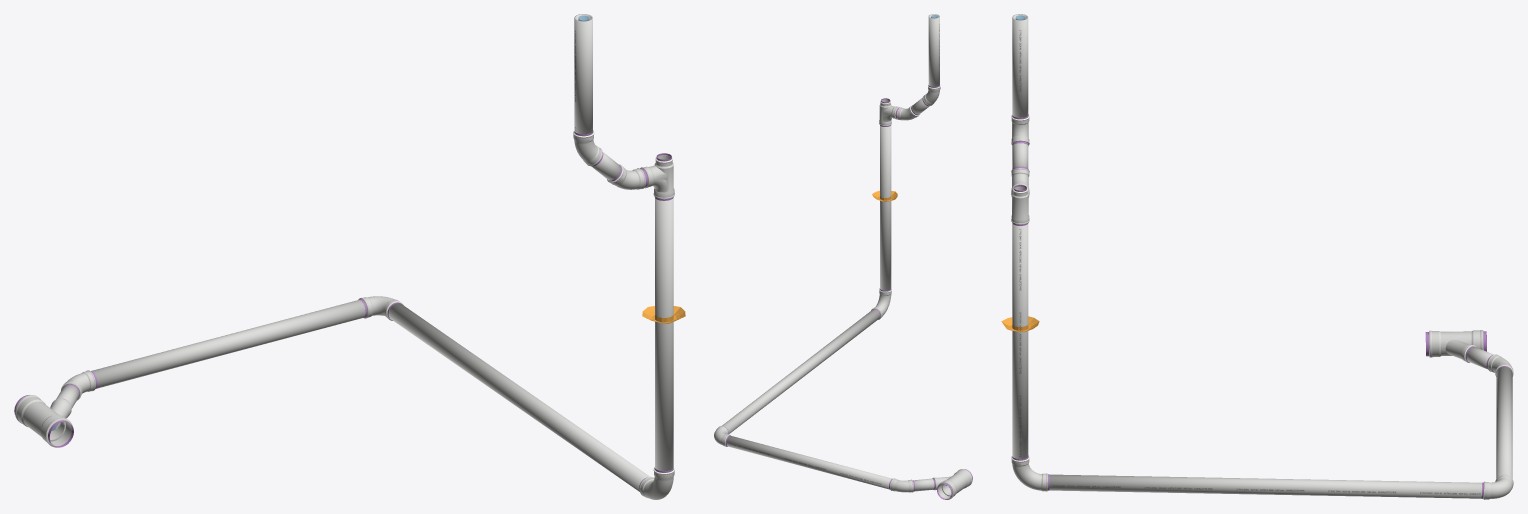
Rendered from pipes_dwv__fault-standpipe_no_trap.glb.
3 renders of one model, left to right at view 1: azimuth 30°, elevation 25°; view 2: azimuth 150°, elevation 25°; view 3: azimuth 270°, elevation 25°, orthographic. The views are drawn at different scales.
Parts seen in each view (by area): view 1: pipe_dwv_laundry_notrap, fit_wye_pipe_dwv_laundry_notrap, fit_tee_pipe_dwv_laundry_notrap; view 2: pipe_dwv_laundry_notrap, fit_wye_pipe_dwv_laundry_notrap, fit_tee_pipe_dwv_laundry_notrap; view 3: pipe_dwv_laundry_notrap, fit_wye_pipe_dwv_laundry_notrap, fit_tee_pipe_dwv_laundry_notrap.
Part boxes in pixels (left/top/right/bottom): pipe_dwv_laundry_notrap: left=56, top=14, right=674, bottom=499; fit_wye_pipe_dwv_laundry_notrap: left=14, top=395, right=73, bottom=447; fit_tee_pipe_dwv_laundry_notrap: left=640, top=153, right=674, bottom=200; pipe_dwv_laundry_notrap: left=714, top=14, right=940, bottom=492; fit_wye_pipe_dwv_laundry_notrap: left=932, top=469, right=972, bottom=499; fit_tee_pipe_dwv_laundry_notrap: left=879, top=98, right=899, bottom=126; pipe_dwv_laundry_notrap: left=1011, top=14, right=1513, bottom=499; fit_wye_pipe_dwv_laundry_notrap: left=1425, top=330, right=1486, bottom=362; fit_tee_pipe_dwv_laundry_notrap: left=1011, top=185, right=1029, bottom=225.
Size of the model in its own units: 1.48 by 1.89 by 1.9.
Materials: 6 (1 with a texture image).
